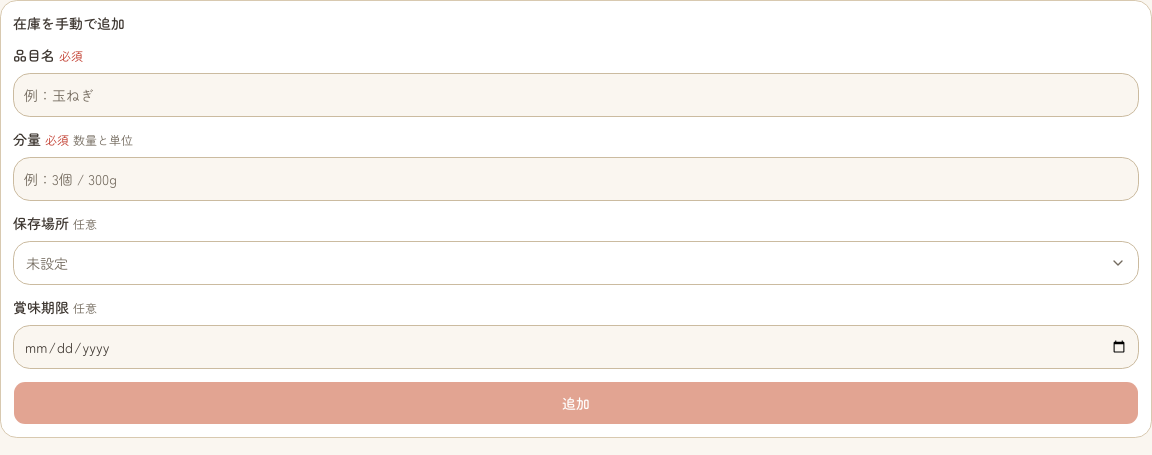
Test: AddStockForm › ASF-02: 品目名と分量（数量+単位）を入力すると追加ボタンが有効化される
Step 1. Type "玉ねぎ" into the field labelled "品目名" → x=576, y=95, box [13, 73, 1139, 117]
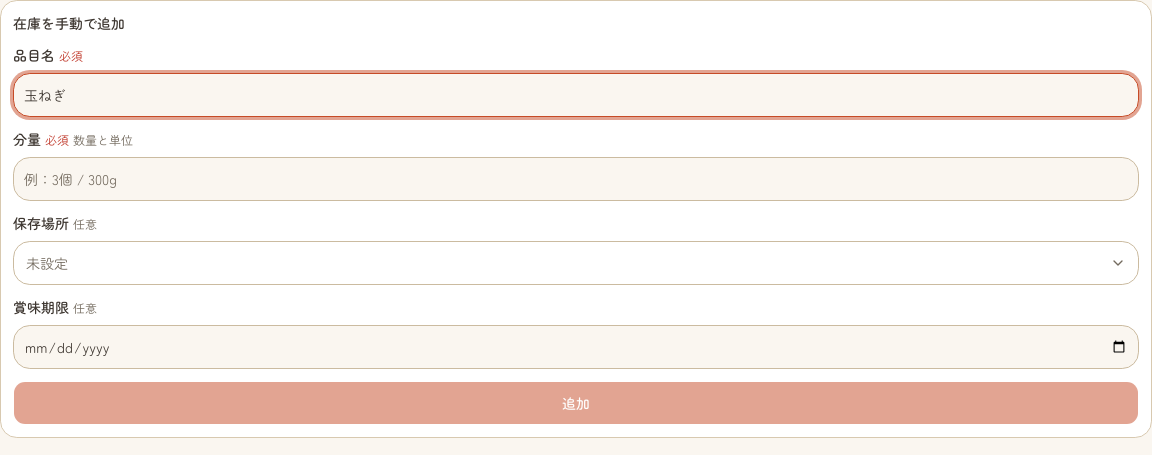
Step 2. Type "3個" into the field labelled "分量" → x=576, y=179, box [13, 157, 1139, 201]
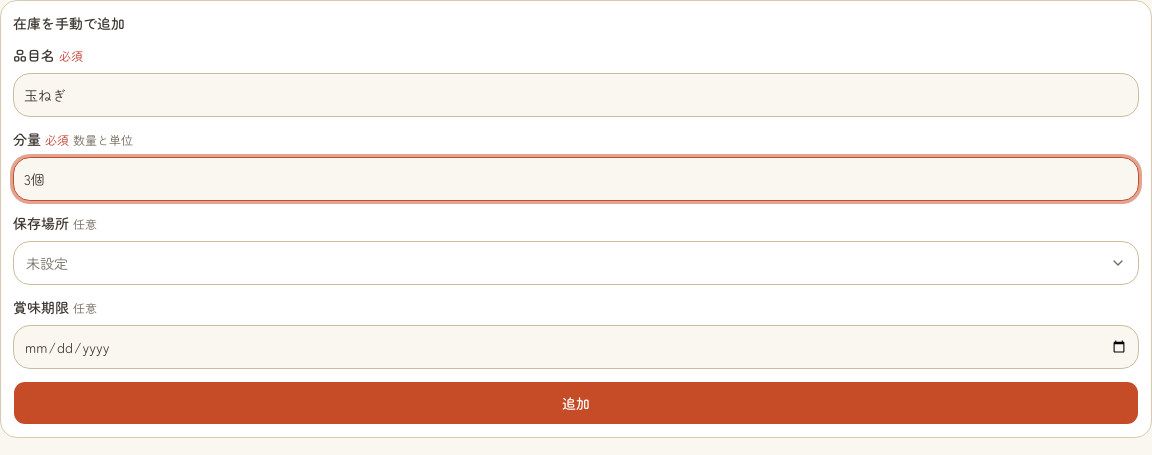
Expected: the button "追加" is enabled, [13, 381, 1139, 425]
